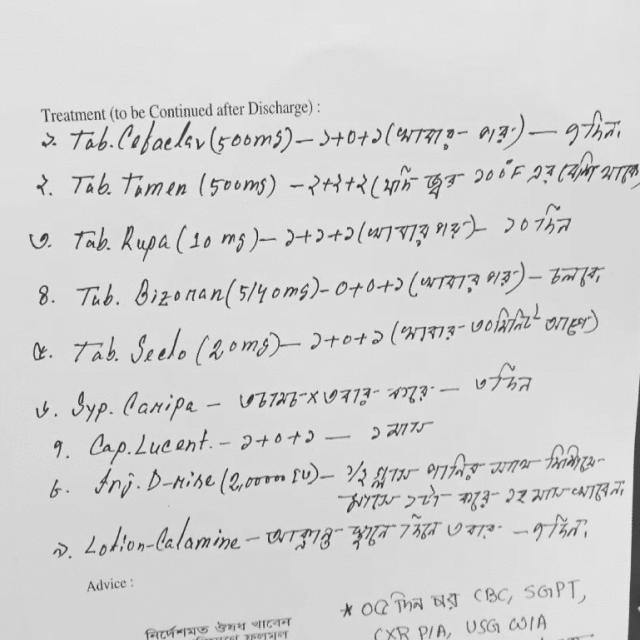medicine: (115, 118, 212, 158), (150, 516, 244, 556), (130, 274, 227, 310), (120, 386, 202, 421), (132, 426, 212, 461), (128, 326, 194, 368), (114, 221, 174, 263), (119, 171, 192, 204), (142, 464, 220, 494)
